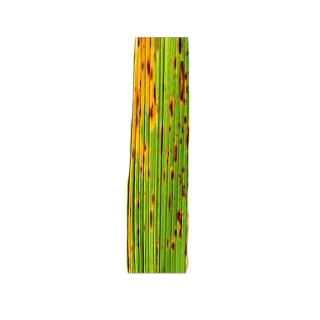Bercak-Cokelat-Sempit: (128, 143, 154, 181), (178, 57, 190, 111), (134, 84, 145, 138), (177, 165, 191, 203), (150, 234, 164, 272), (165, 93, 175, 137), (140, 52, 154, 82), (148, 192, 158, 232), (174, 209, 184, 243)
